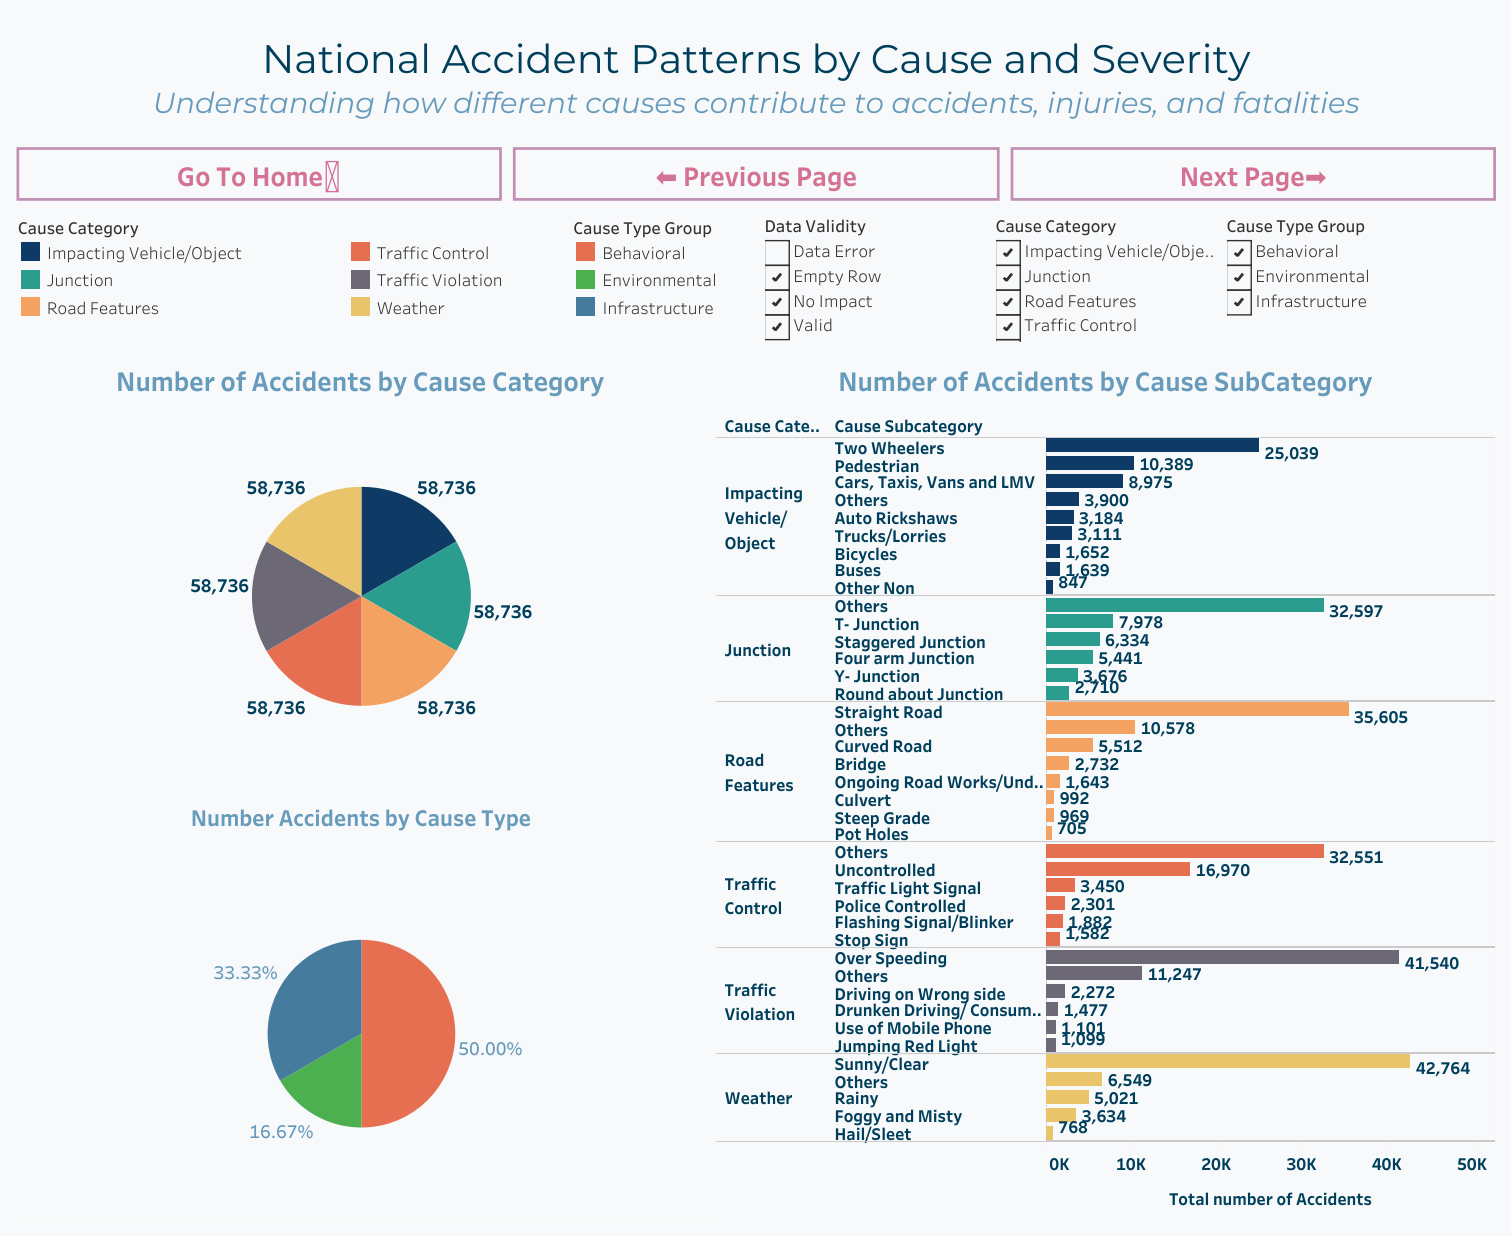

The dashboard page shown, as its layout file describes it:
{"tool":"tableau","page":{"name":"Dashboard: National Accident Patterns by Cause and Severity","canvas":[1100,900],"ordinal":2},"visuals":[{"type":"text","box":[8,8,1084,94.7]},{"type":"dashboard-object","box":[8,102.7,361.3,47.3]},{"type":"dashboard-object","box":[369.3,102.7,361.3,47.3]},{"type":"dashboard-object","box":[730.7,102.7,361.3,47.3]},{"type":"legend","title":"Accident distribution by Cause Category","param":"[federated.1qr1u5g0pfcfgy1fzzg5r0x8486u].[none:Cause_Category:nk]","box":[8,150,404,103]},{"type":"legend","title":"Accidents by Cause Type Group","param":"[federated.1qr1u5g0pfcfgy1fzzg5r0x8486u].[none:Cause_Type_Group:nk]","box":[412,150,140,103]},{"type":"filter","title":"Accident distribution by Cause Category","param":"[federated.1qr1u5g0pfcfgy1fzzg5r0x8486u].[none:Data_Validity:nk]","box":[552,150,168,103]},{"type":"filter","title":"Accident distribution by Cause Category","param":"[federated.1qr1u5g0pfcfgy1fzzg5r0x8486u].[none:Cause_Category:nk]","box":[720,150,168,103]},{"type":"filter","title":"Accidents by Cause Type Group","param":"[federated.1qr1u5g0pfcfgy1fzzg5r0x8486u].[none:Cause_Type_Group:nk]","box":[888,150,168,103]},{"type":"worksheet","title":"Accident distribution by Cause Category","mark":"Pie","box":[8,253,509,320]},{"type":"worksheet","title":"Accidents by Cause Subcategory","mark":"Automatic","rows":["Cause_Category","Cause_Subcategory"],"cols":["Total number of Accidents"],"box":[517,253,575,638.7]},{"type":"worksheet","title":"Accidents by Cause Type Group","mark":"Pie","box":[8,573,509,319]}]}

Visuals, with their boxes in screenshot pixels (x1, y1, x2, y2), scaled from the page's 1100x900 canvas onto the 1511x1236 screenshot:
text: [left=11, top=11, right=1500, bottom=141]
dashboard-object: [left=11, top=141, right=507, bottom=206]
dashboard-object: [left=507, top=141, right=1004, bottom=206]
dashboard-object: [left=1004, top=141, right=1500, bottom=206]
"Accident distribution by Cause Category" legend: [left=11, top=206, right=566, bottom=347]
"Accidents by Cause Type Group" legend: [left=566, top=206, right=758, bottom=347]
"Accident distribution by Cause Category" filter: [left=758, top=206, right=989, bottom=347]
"Accident distribution by Cause Category" filter: [left=989, top=206, right=1220, bottom=347]
"Accidents by Cause Type Group" filter: [left=1220, top=206, right=1451, bottom=347]
"Accident distribution by Cause Category" worksheet (Pie marks): [left=11, top=347, right=710, bottom=787]
"Accidents by Cause Subcategory" worksheet: [left=710, top=347, right=1500, bottom=1225]
"Accidents by Cause Type Group" worksheet (Pie marks): [left=11, top=787, right=710, bottom=1225]
